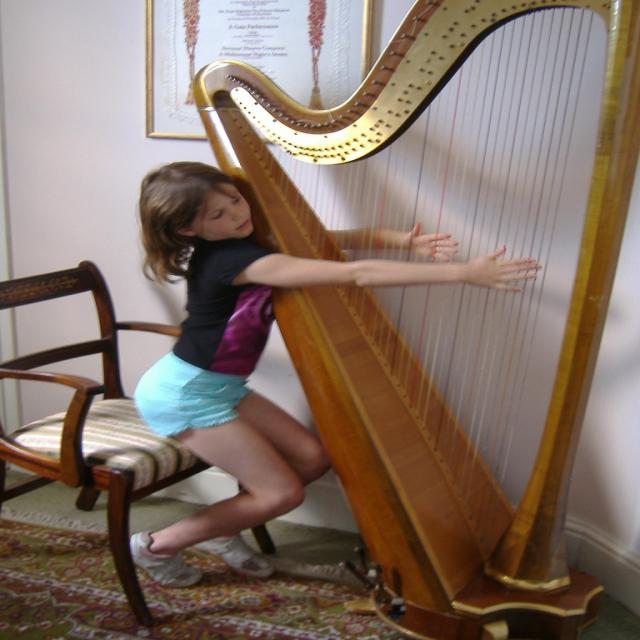harp: (189, 0, 639, 639)
